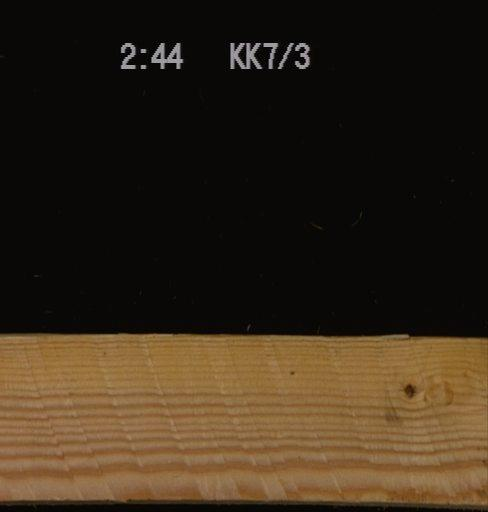dry_knot: (395, 375, 423, 402)
